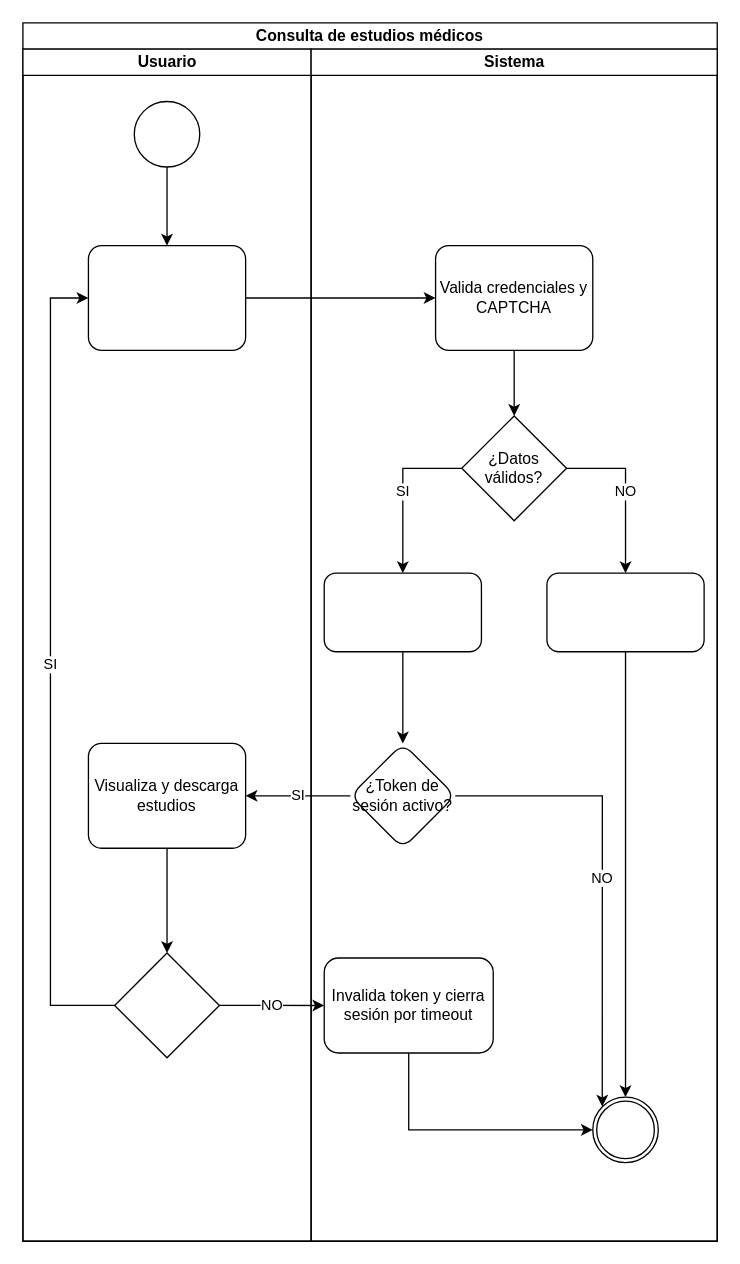
This 740x1264 diagram has some shape labels left out. The centre of each missing label's shape, as x and y in pixels:
"Completa formulario" goes at pixel 166 297.
"Crea sesión segura (cookie HttpOnly) y habilita vista" goes at pixel 402 612.
"Muestra mensaje de error" goes at pixel 625 612.
"¿Realizar otra consulta?" goes at pixel 166 1005.
